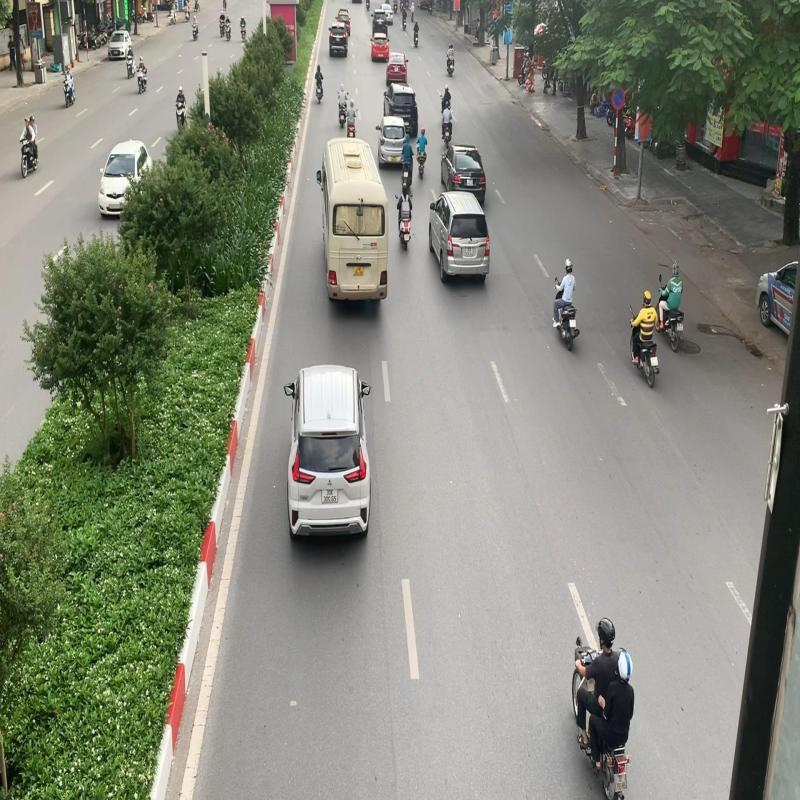helmet: (596, 616, 616, 651), (616, 645, 633, 683)
licenseplate: (613, 772, 628, 792)
motorcyclist: (570, 615, 636, 800)
